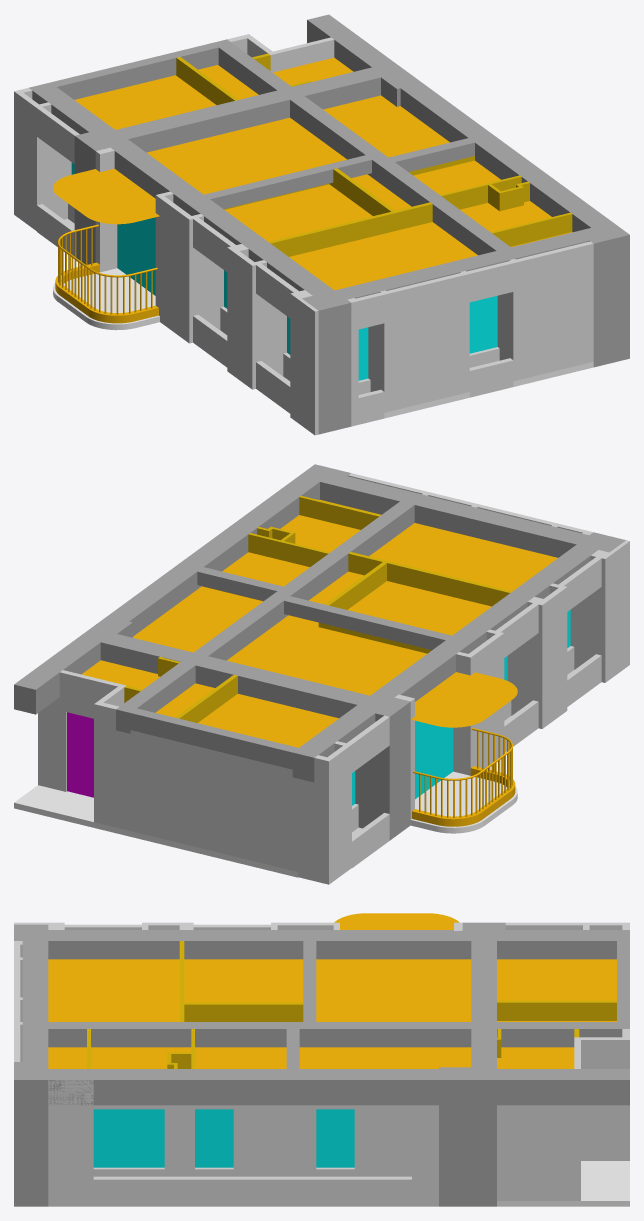
3 views of the same model, one above another, from view 1: azimuth 30°, elevation 25°; view 2: azimuth 150°, elevation 25°; view 3: azimuth 270°, elevation 25° (orthographic). The views are drawn at different scales.
Size of the model in its own units: 10.18 by 3.25 by 14.32.
